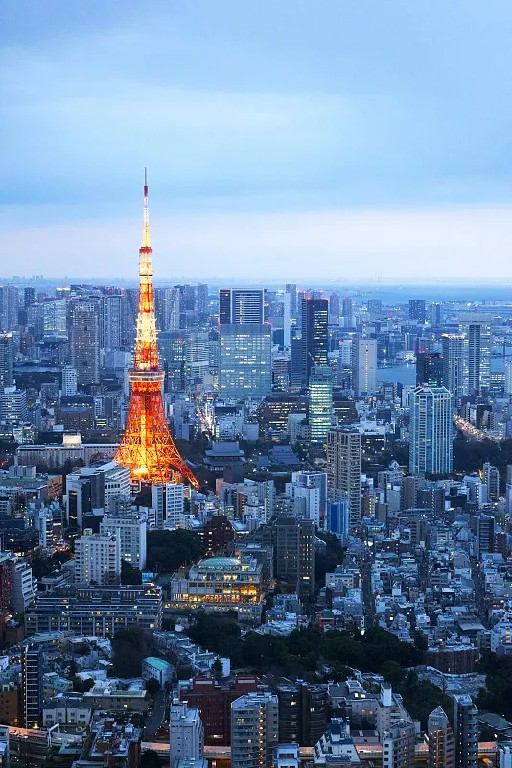Tokyo: (112, 161, 202, 492)
